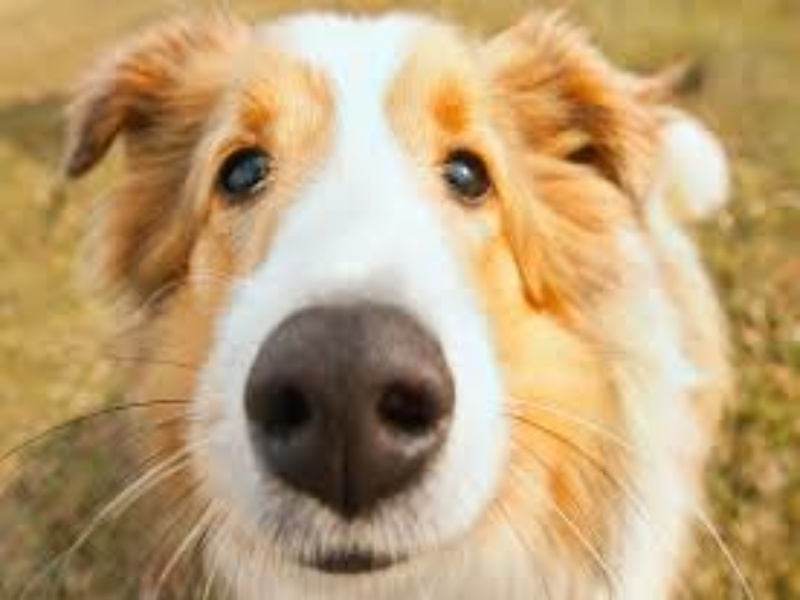dog: (62, 10, 708, 600)
